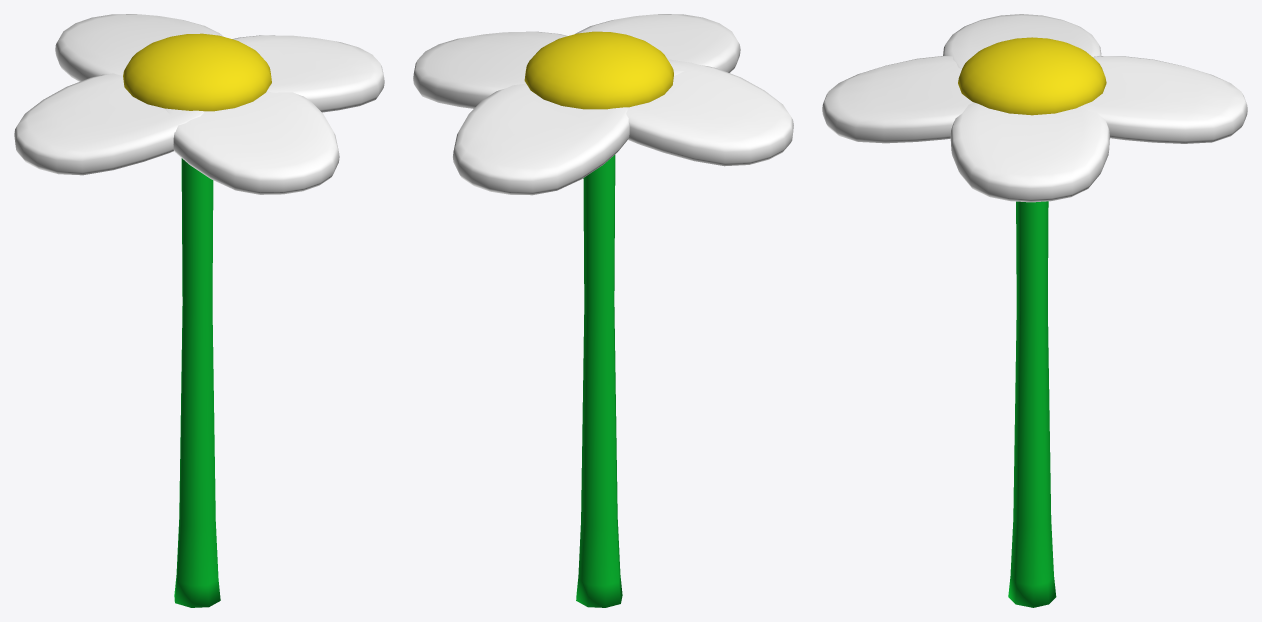
The model's file is Flower.fbx.
The picture shows the model from 3 angles, left to right: view 1: azimuth 30°, elevation 25°; view 2: azimuth 150°, elevation 25°; view 3: azimuth 270°, elevation 25°; orthographic projection.
Parts seen in each view (by area): view 1: Flower2; view 2: Flower2; view 3: Flower2.
Boxes of the visible parts, left/top/right/bottom form: Flower2: left=14, top=14, right=384, bottom=607; Flower2: left=413, top=14, right=793, bottom=607; Flower2: left=822, top=14, right=1247, bottom=607.
Size of the model in its own units: 1.73 by 2.6 by 1.81.
